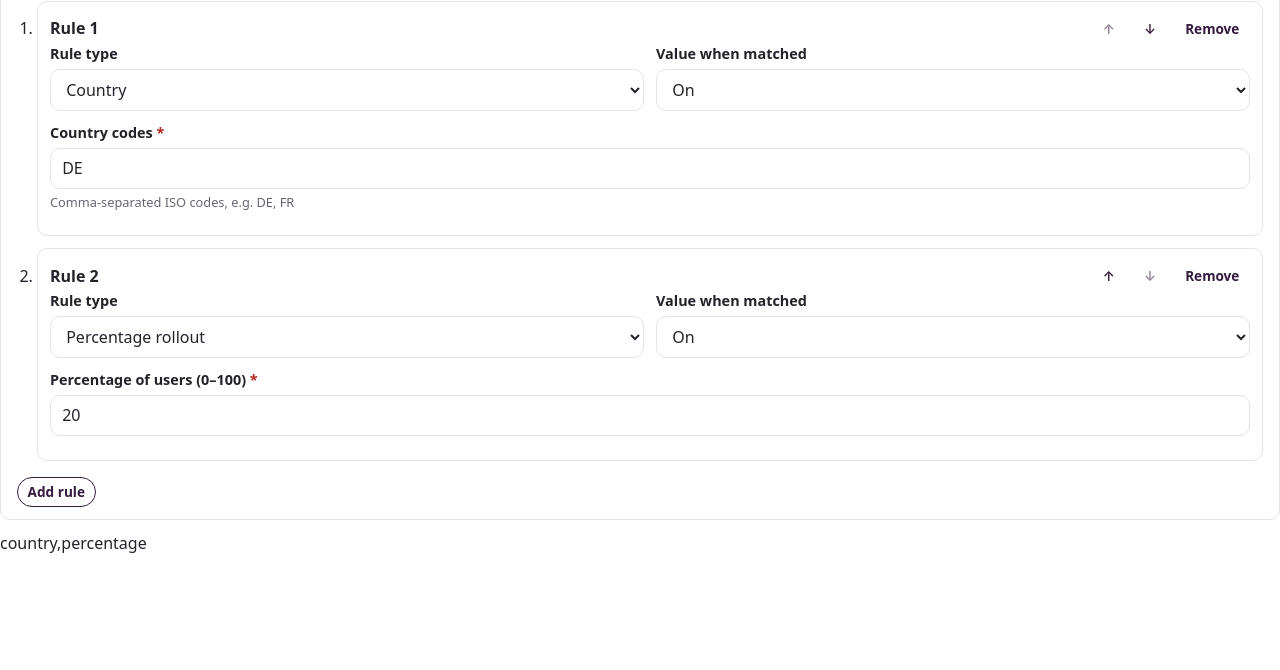
Test case: FlagRuleEditor › reorders, adds and switches rule types with the matching target input
Click the button "↓" in the row of "Rule 1" at (1150, 29), box x1=1133 y1=14 x2=1167 y2=44
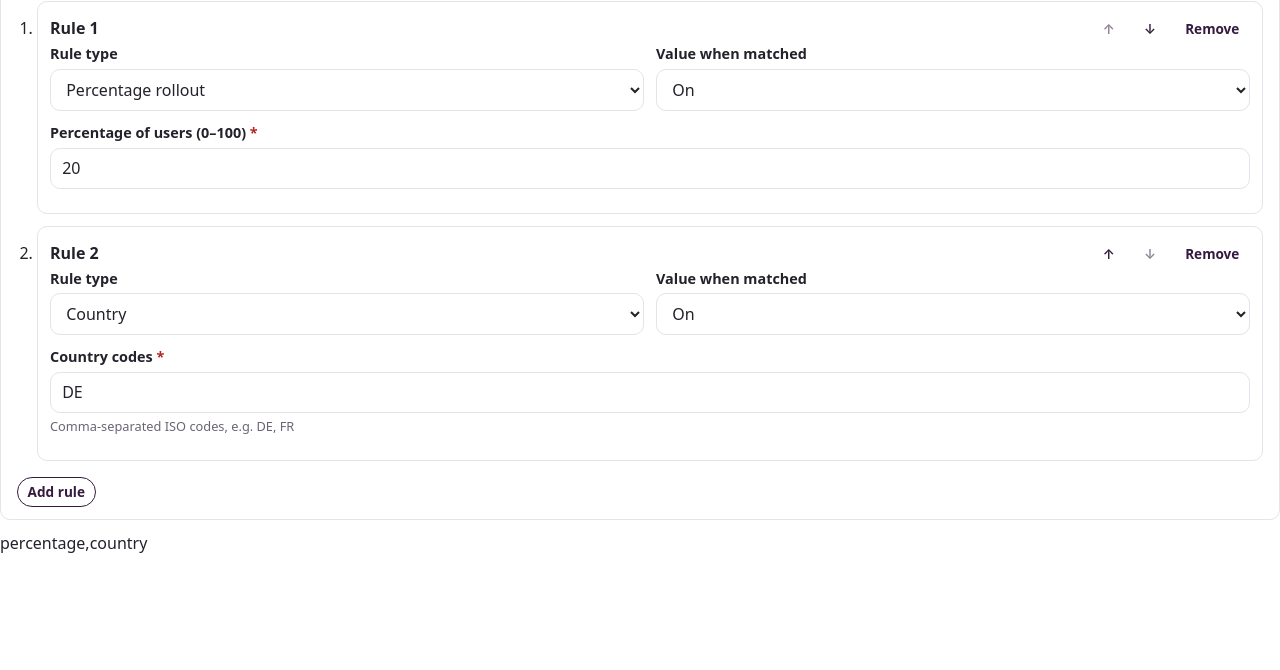
Now the text with test id "order" reads "percentage,country", box x1=0 y1=532 x2=147 y2=554
Click the button "Add rule" at (56, 492), box x1=17 y1=477 x2=96 y2=507
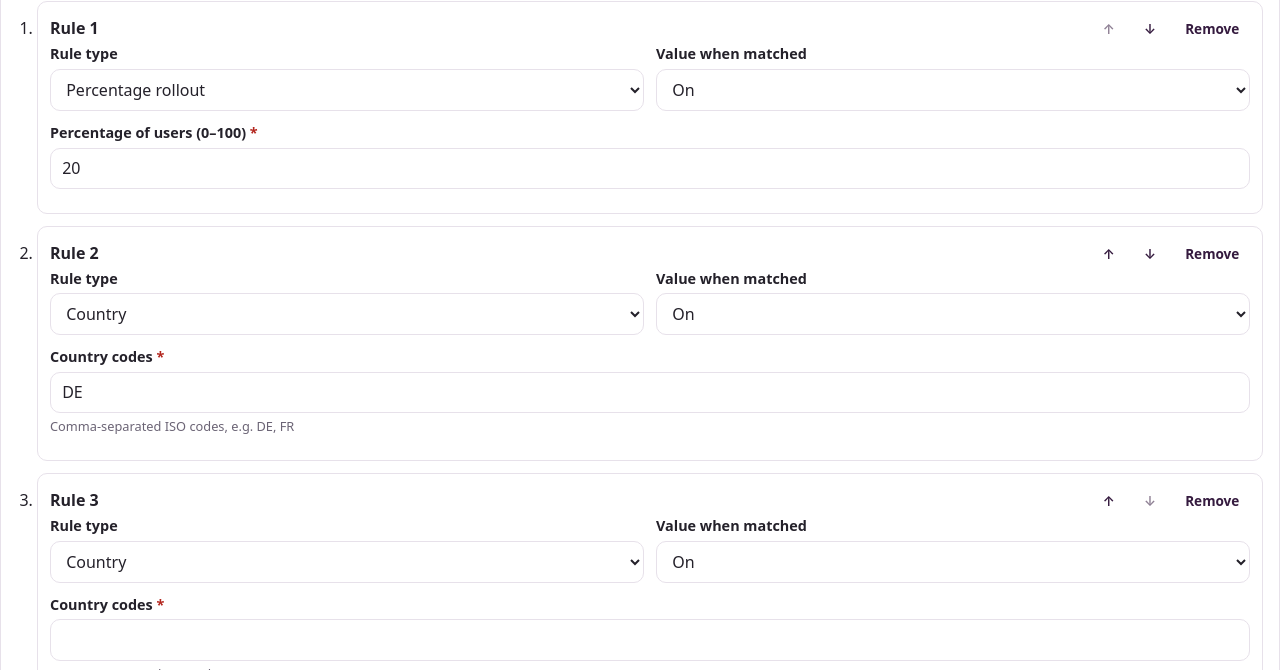
Select "Segment" in the dropdown labelled "Rule type" below "Rule 3" at (347, 562), box x1=50 y1=541 x2=644 y2=583
(page scrolled)
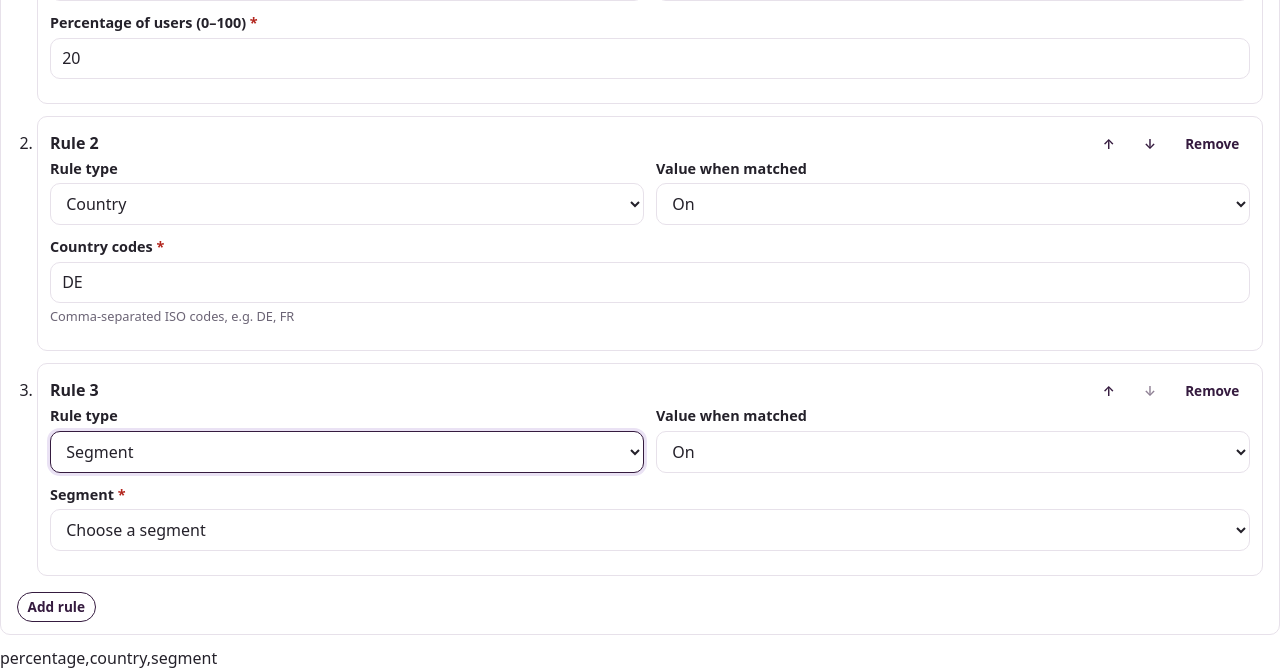
Now the text with test id "order" reads "percentage,country,segment", box x1=0 y1=647 x2=217 y2=669
